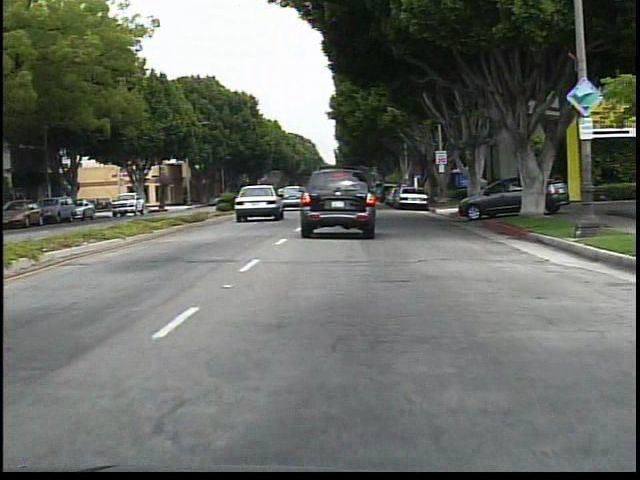person: (474, 170, 492, 209)
